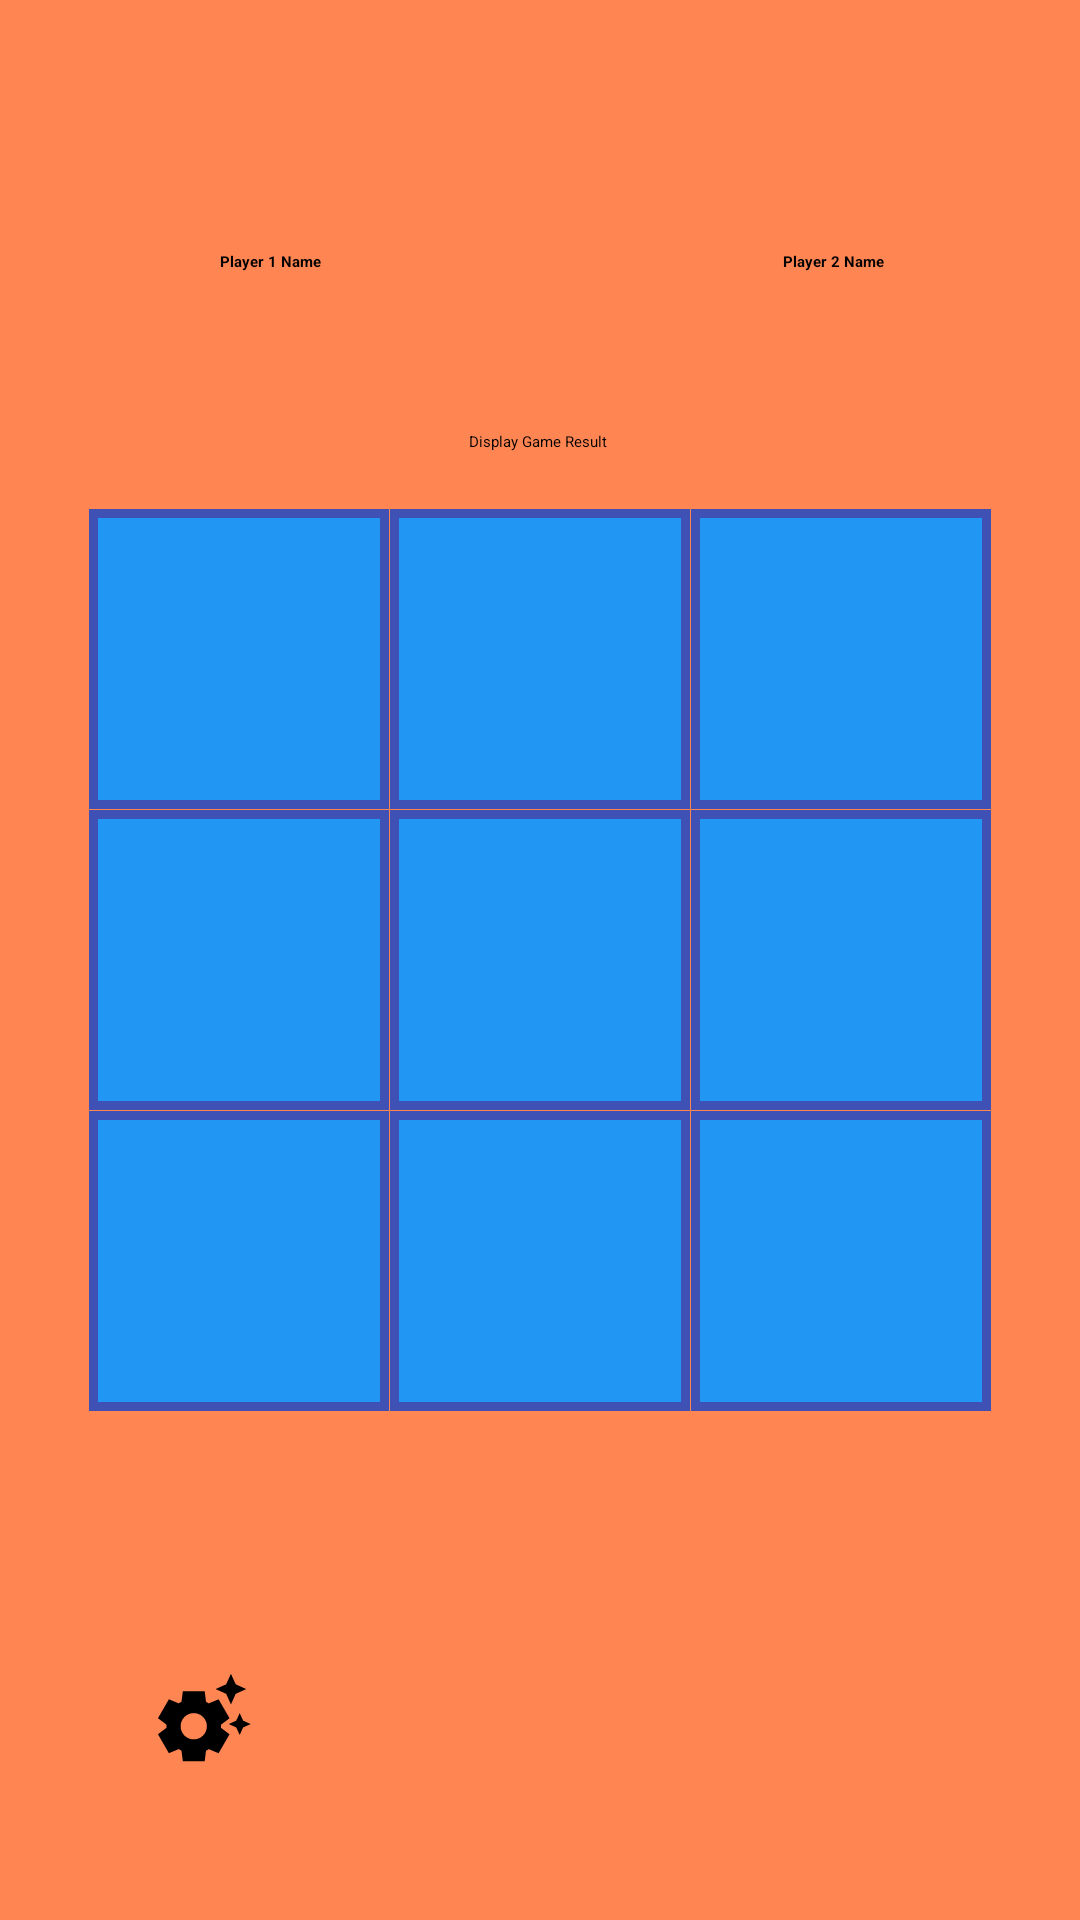

Point at icon controls on the screen. Image size 1080 × 1920, points as (x=x, y=y).
settings suggest: (x=204, y=1718)
